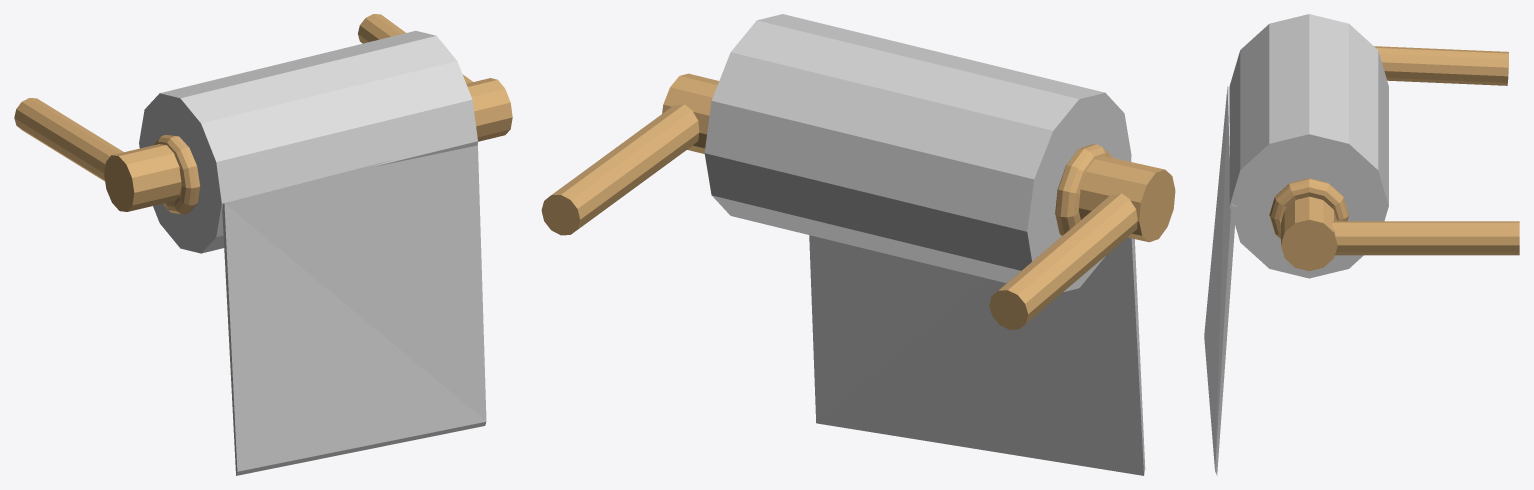
3 renders of one model, left to right at view 1: azimuth 30°, elevation 25°; view 2: azimuth 150°, elevation 25°; view 3: azimuth 270°, elevation 25°, orthographic. The views are drawn at different scales.
Parts seen in each view (by area): view 1: node_MeshObject1597149184-PolyPaper21; view 2: node_MeshObject1597149184-PolyPaper21; view 3: node_MeshObject1597149184-PolyPaper21.
Part boxes in pixels (<box>): node_MeshObject1597149184-PolyPaper21: <box>14,14,512,475</box>; node_MeshObject1597149184-PolyPaper21: <box>541,14,1175,475</box>; node_MeshObject1597149184-PolyPaper21: <box>1204,14,1519,475</box>.
Bounding box in the file's own units: 0.3711 × 0.3311 × 0.2774.
